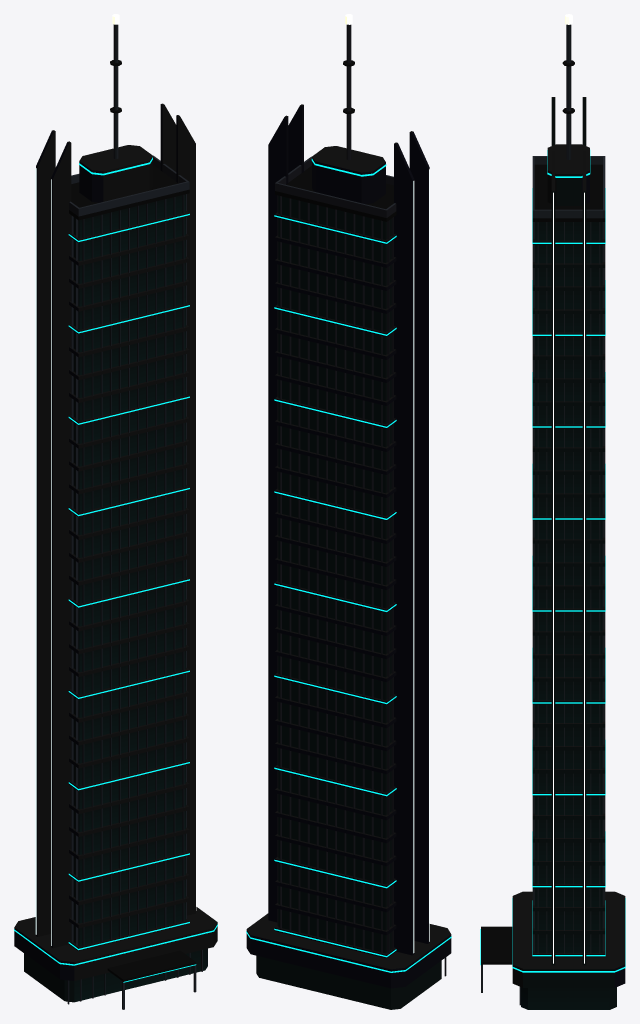
The model's file is sc-tower-slab.glb.
The picture shows the model from 3 angles, left to right: view 1: azimuth 30°, elevation 25°; view 2: azimuth 150°, elevation 25°; view 3: azimuth 270°, elevation 25°; orthographic projection.
Visible parts, largest first — view 1: shaddai_tower_slab_blades, shaddai_tower_slab_crown; view 2: shaddai_tower_slab_blades, shaddai_tower_slab_crown; view 3: shaddai_tower_slab_blades, shaddai_tower_slab_crown.
Boxes of the visible parts, x1,y1,x2,y2 form: shaddai_tower_slab_blades: (14,24,217,1009); shaddai_tower_slab_crown: (14,157,217,982); shaddai_tower_slab_blades: (246,24,451,1009); shaddai_tower_slab_crown: (246,159,451,972); shaddai_tower_slab_blades: (481,24,625,1009); shaddai_tower_slab_crown: (480,150,625,972).
Bounding box in the file's own units: 26.08 × 150 × 20.6.
